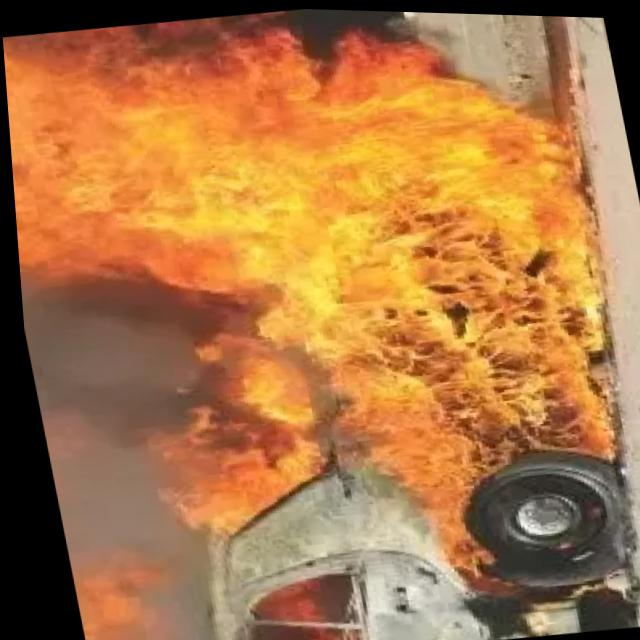Fire: (0, 0, 625, 566)
